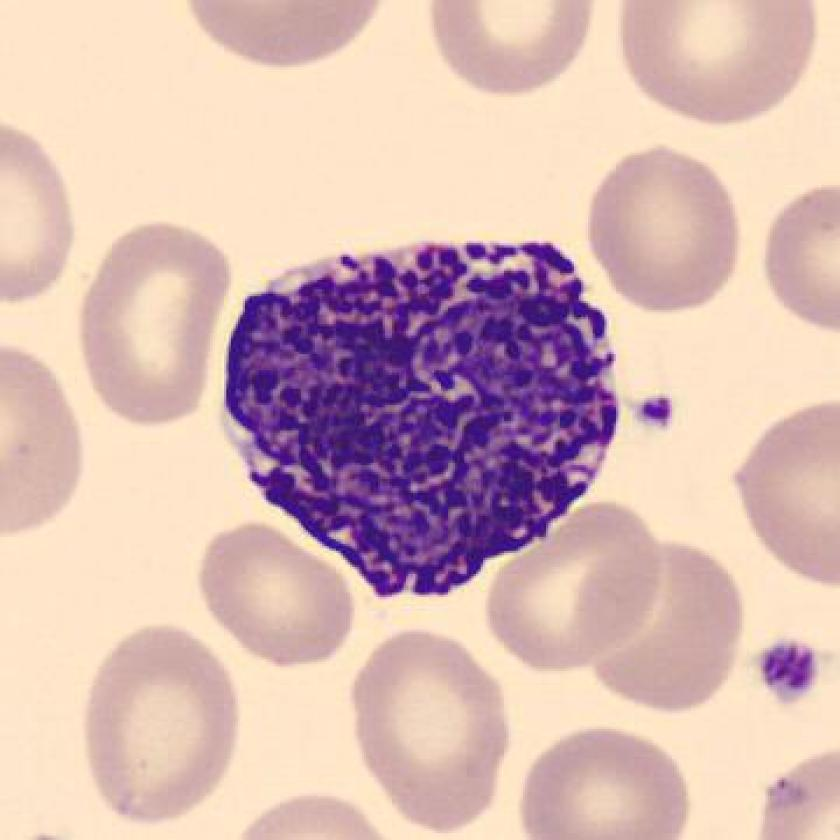basophil: (209, 233, 615, 603)
